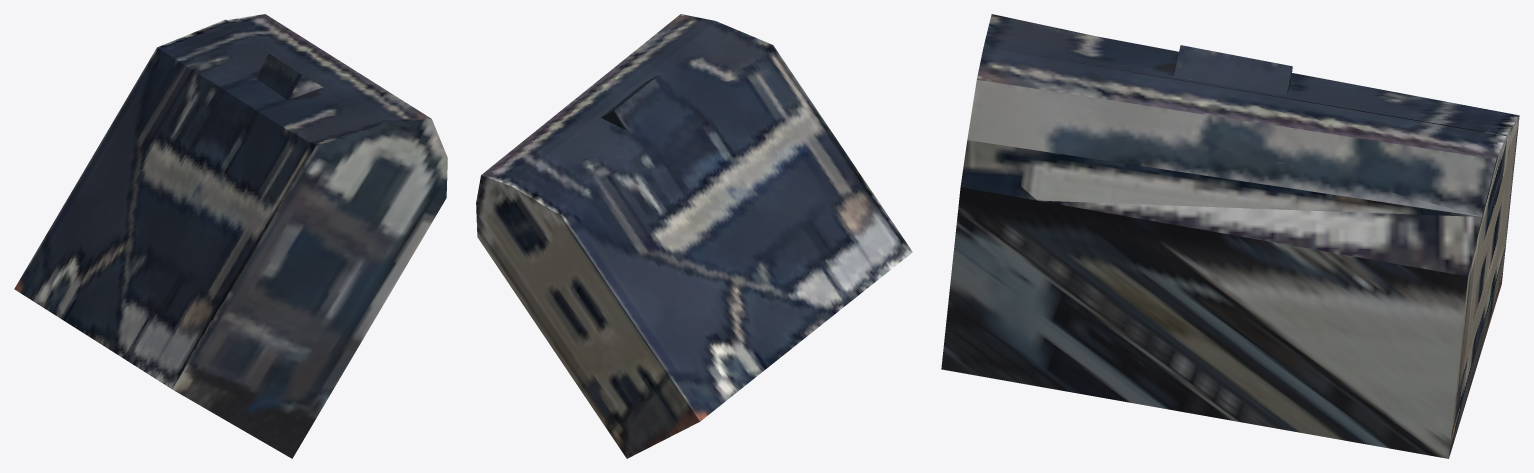
3 renders of one model, left to right at view 1: azimuth 30°, elevation 25°; view 2: azimuth 150°, elevation 25°; view 3: azimuth 270°, elevation 25°, orthographic. The views are drawn at different scales.
Visible parts, largest first — view 1: BAG_0599100000760481 (×4); view 2: BAG_0599100000760481 (×4); view 3: BAG_0599100000760481 (×3).
Boxes of the visible parts, x1,y1,x2,y2 form: BAG_0599100000760481 (×4): (14,14,447,458); BAG_0599100000760481 (×4): (476,14,912,458); BAG_0599100000760481 (×3): (941,14,1519,458).
Bounding box in the file's own units: 11.52 × 12.54 × 14.26.
4 materials, 4 textured.
